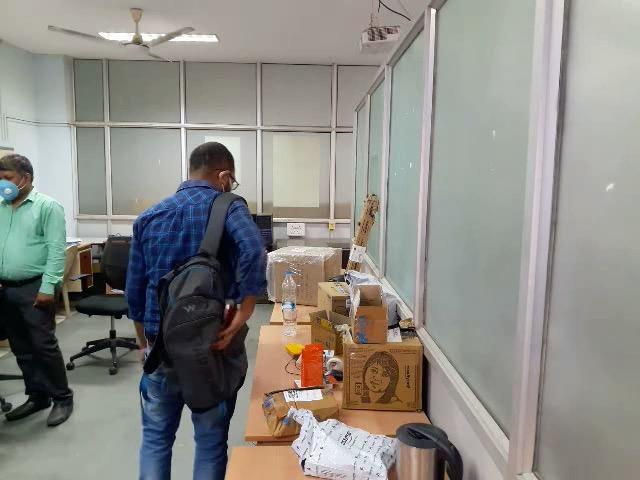shoplifting: (134, 244, 250, 443)
